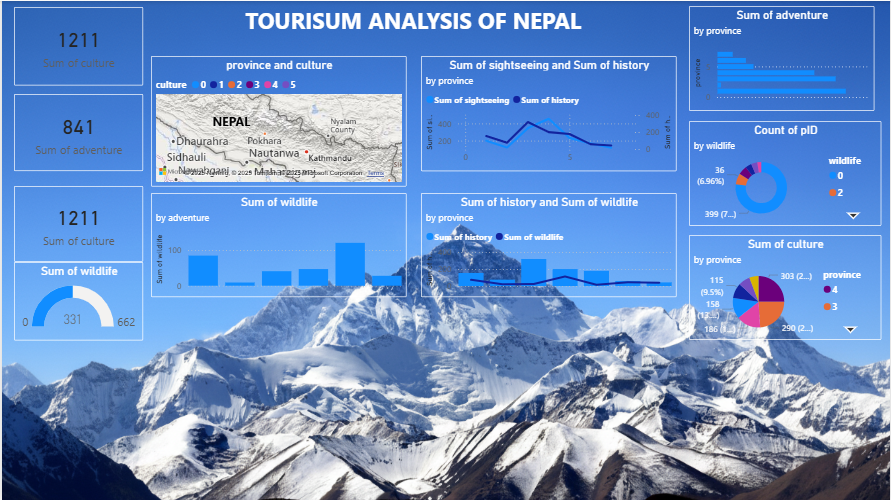

The page's visual inventory and layout, read from the dashboard file:
{"tool":"powerbi","page":{"name":"Page 1","canvas":[1280,720],"ordinal":0},"visuals":[{"type":"textbox","box":[215,0,755.9,65.5],"z":0},{"type":"card","fields":{"Values":["Sum(Sheet1.culture)"]},"box":[16.8,8.4,186.5,112.5],"z":1000},{"type":"pieChart","fields":{"Category":["Sheet1.province"],"Y":["Sum(Sheet1.culture)"]},"box":[989.4,337.6,277.2,151.2],"z":2000},{"type":"barChart","fields":{"Category":["Sheet1.province"],"Y":["Sum(Sheet1.adventure)"]},"box":[989.4,6.7,267.1,151.2],"z":3000},{"type":"donutChart","fields":{"Category":["Sheet1.wildlife"],"Y":["CountNonNull(Sheet1.pID)"]},"box":[989.4,173,277.2,151.2],"z":4000},{"type":"filledMap","fields":{"Category":["Sheet1.province"],"Series":["Sheet1.culture"]},"box":[215,79,367.9,188.1],"z":5000},{"type":"lineChart","fields":{"Category":["Sheet1.province"],"Y":["Sum(Sheet1.sightseeing)"],"Y2":["Sum(Sheet1.history)"]},"box":[603,79,367.9,166.3],"z":6000},{"type":"gauge","fields":{"Y":["Sum(Sheet1.wildlife)"]},"box":[16.8,376.3,186.5,112.5],"z":7000},{"type":"card","fields":{"Values":["Sum(Sheet1.adventure)"]},"box":[16.8,134.4,186.5,110.9],"z":8000},{"type":"card","fields":{"Values":["Sum(Sheet1.culture)"]},"box":[16.8,267.1,186.5,109.2],"z":9000},{"type":"clusteredColumnChart","fields":{"Category":["Sheet1.adventure"],"Y":["Sum(Sheet1.wildlife)"]},"box":[215,277.2,367.9,149.5],"z":10000},{"type":"lineClusteredColumnComboChart","fields":{"Category":["Sheet1.province"],"Y":["Sum(Sheet1.history)"],"Y2":["Sum(Sheet1.wildlife)"]},"box":[603,277,368,150],"z":11000}]}

Visuals, with their boxes in screenshot pixels (x1, y1, x2, y2), scaled from the page's 1280x720 canvas onto the 891x500 screenshot:
textbox: 150 0 676 45
card - Sum(Sheet1.culture): 12 6 142 84
pieChart - Sheet1.province x Sum(Sheet1.culture): 689 234 882 339
barChart - Sheet1.province x Sum(Sheet1.adventure): 689 5 875 110
donutChart - Sheet1.wildlife x CountNonNull(Sheet1.pID): 689 120 882 225
filledMap - Sheet1.province x Sheet1.culture: 150 55 406 185
lineChart - Sheet1.province x Sum(Sheet1.sightseeing): 420 55 676 170
gauge - Sum(Sheet1.wildlife): 12 261 142 339
card - Sum(Sheet1.adventure): 12 93 142 170
card - Sum(Sheet1.culture): 12 185 142 261
clusteredColumnChart - Sheet1.adventure x Sum(Sheet1.wildlife): 150 192 406 296
lineClusteredColumnComboChart - Sheet1.province x Sum(Sheet1.history): 420 192 676 297
